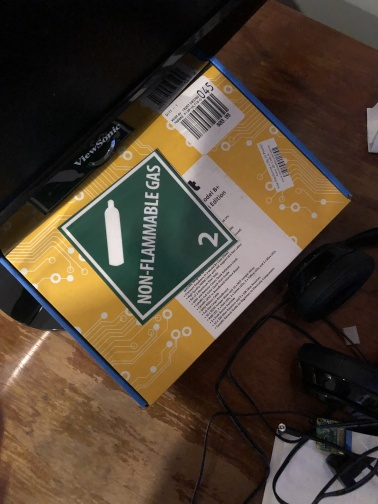NonFlammableGas: (58, 151, 237, 326)
